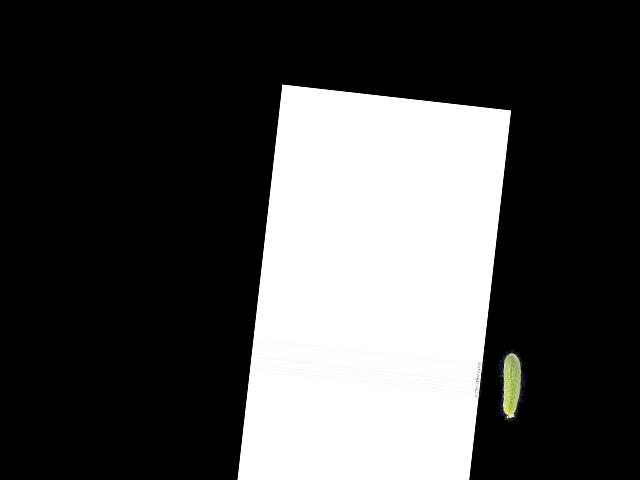cucumber: (498, 352, 523, 418)
